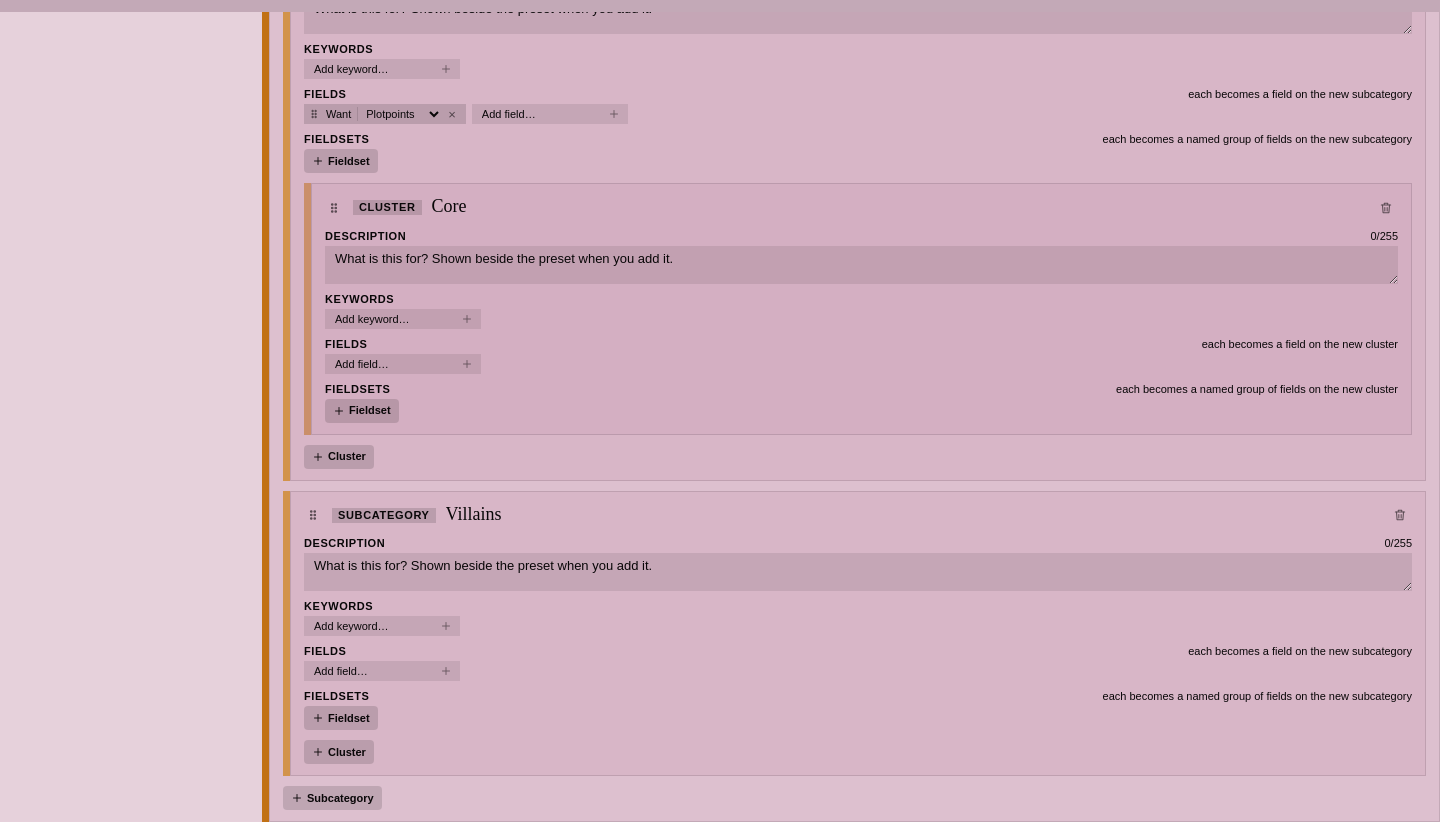
Scenario: subcategories and clusters › marks a card without a name and says what stops publishing
(page scrolled)
What coordinates should you click on to do the following:
click the button "Subcategory"
I would click on:
 (332, 798)
Its box is 283,786 -> 382,810.
(page scrolled)
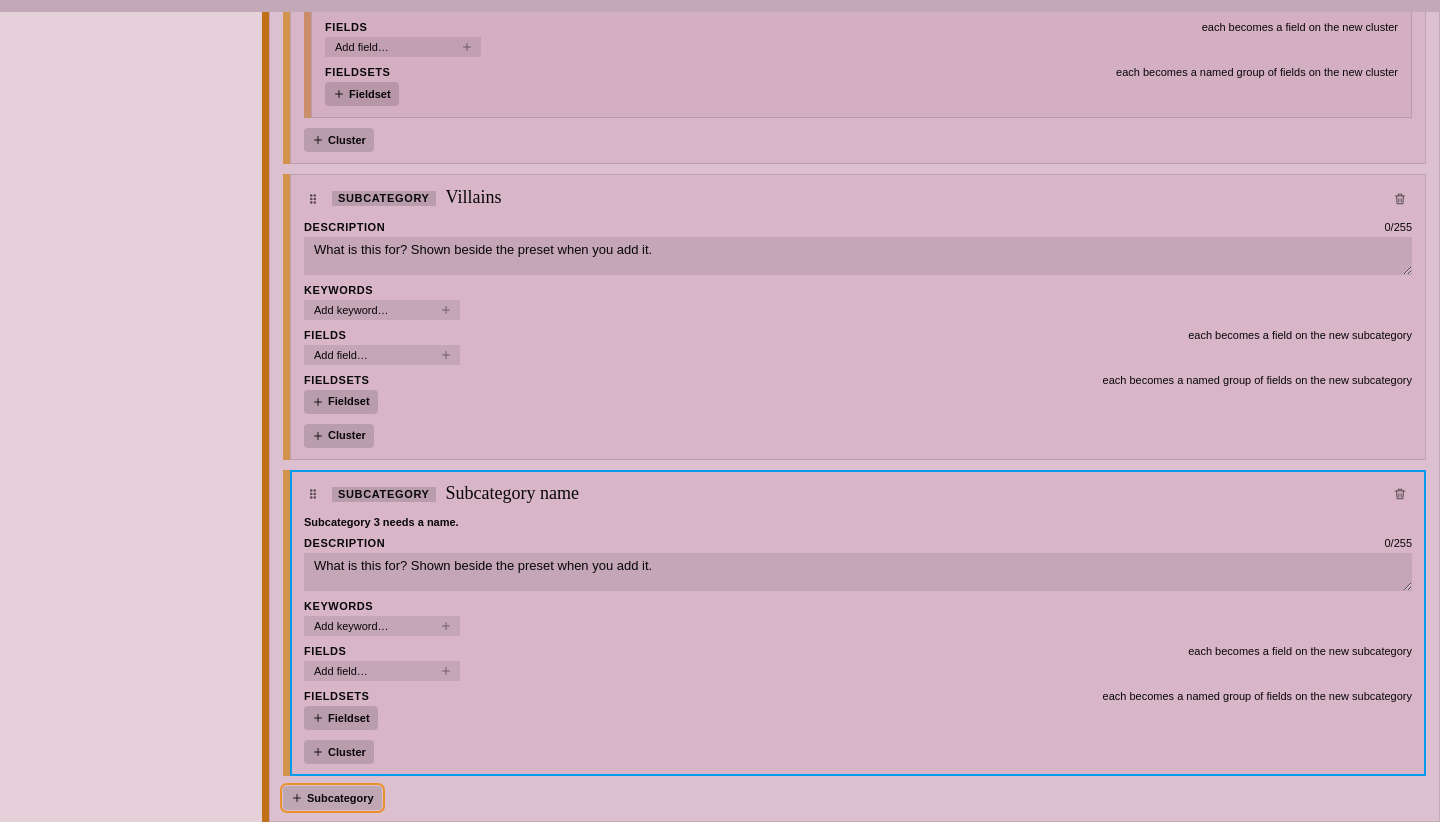
Expected: the text "Subcategory 3 needs a name." is shown, 304,516 -> 459,528
